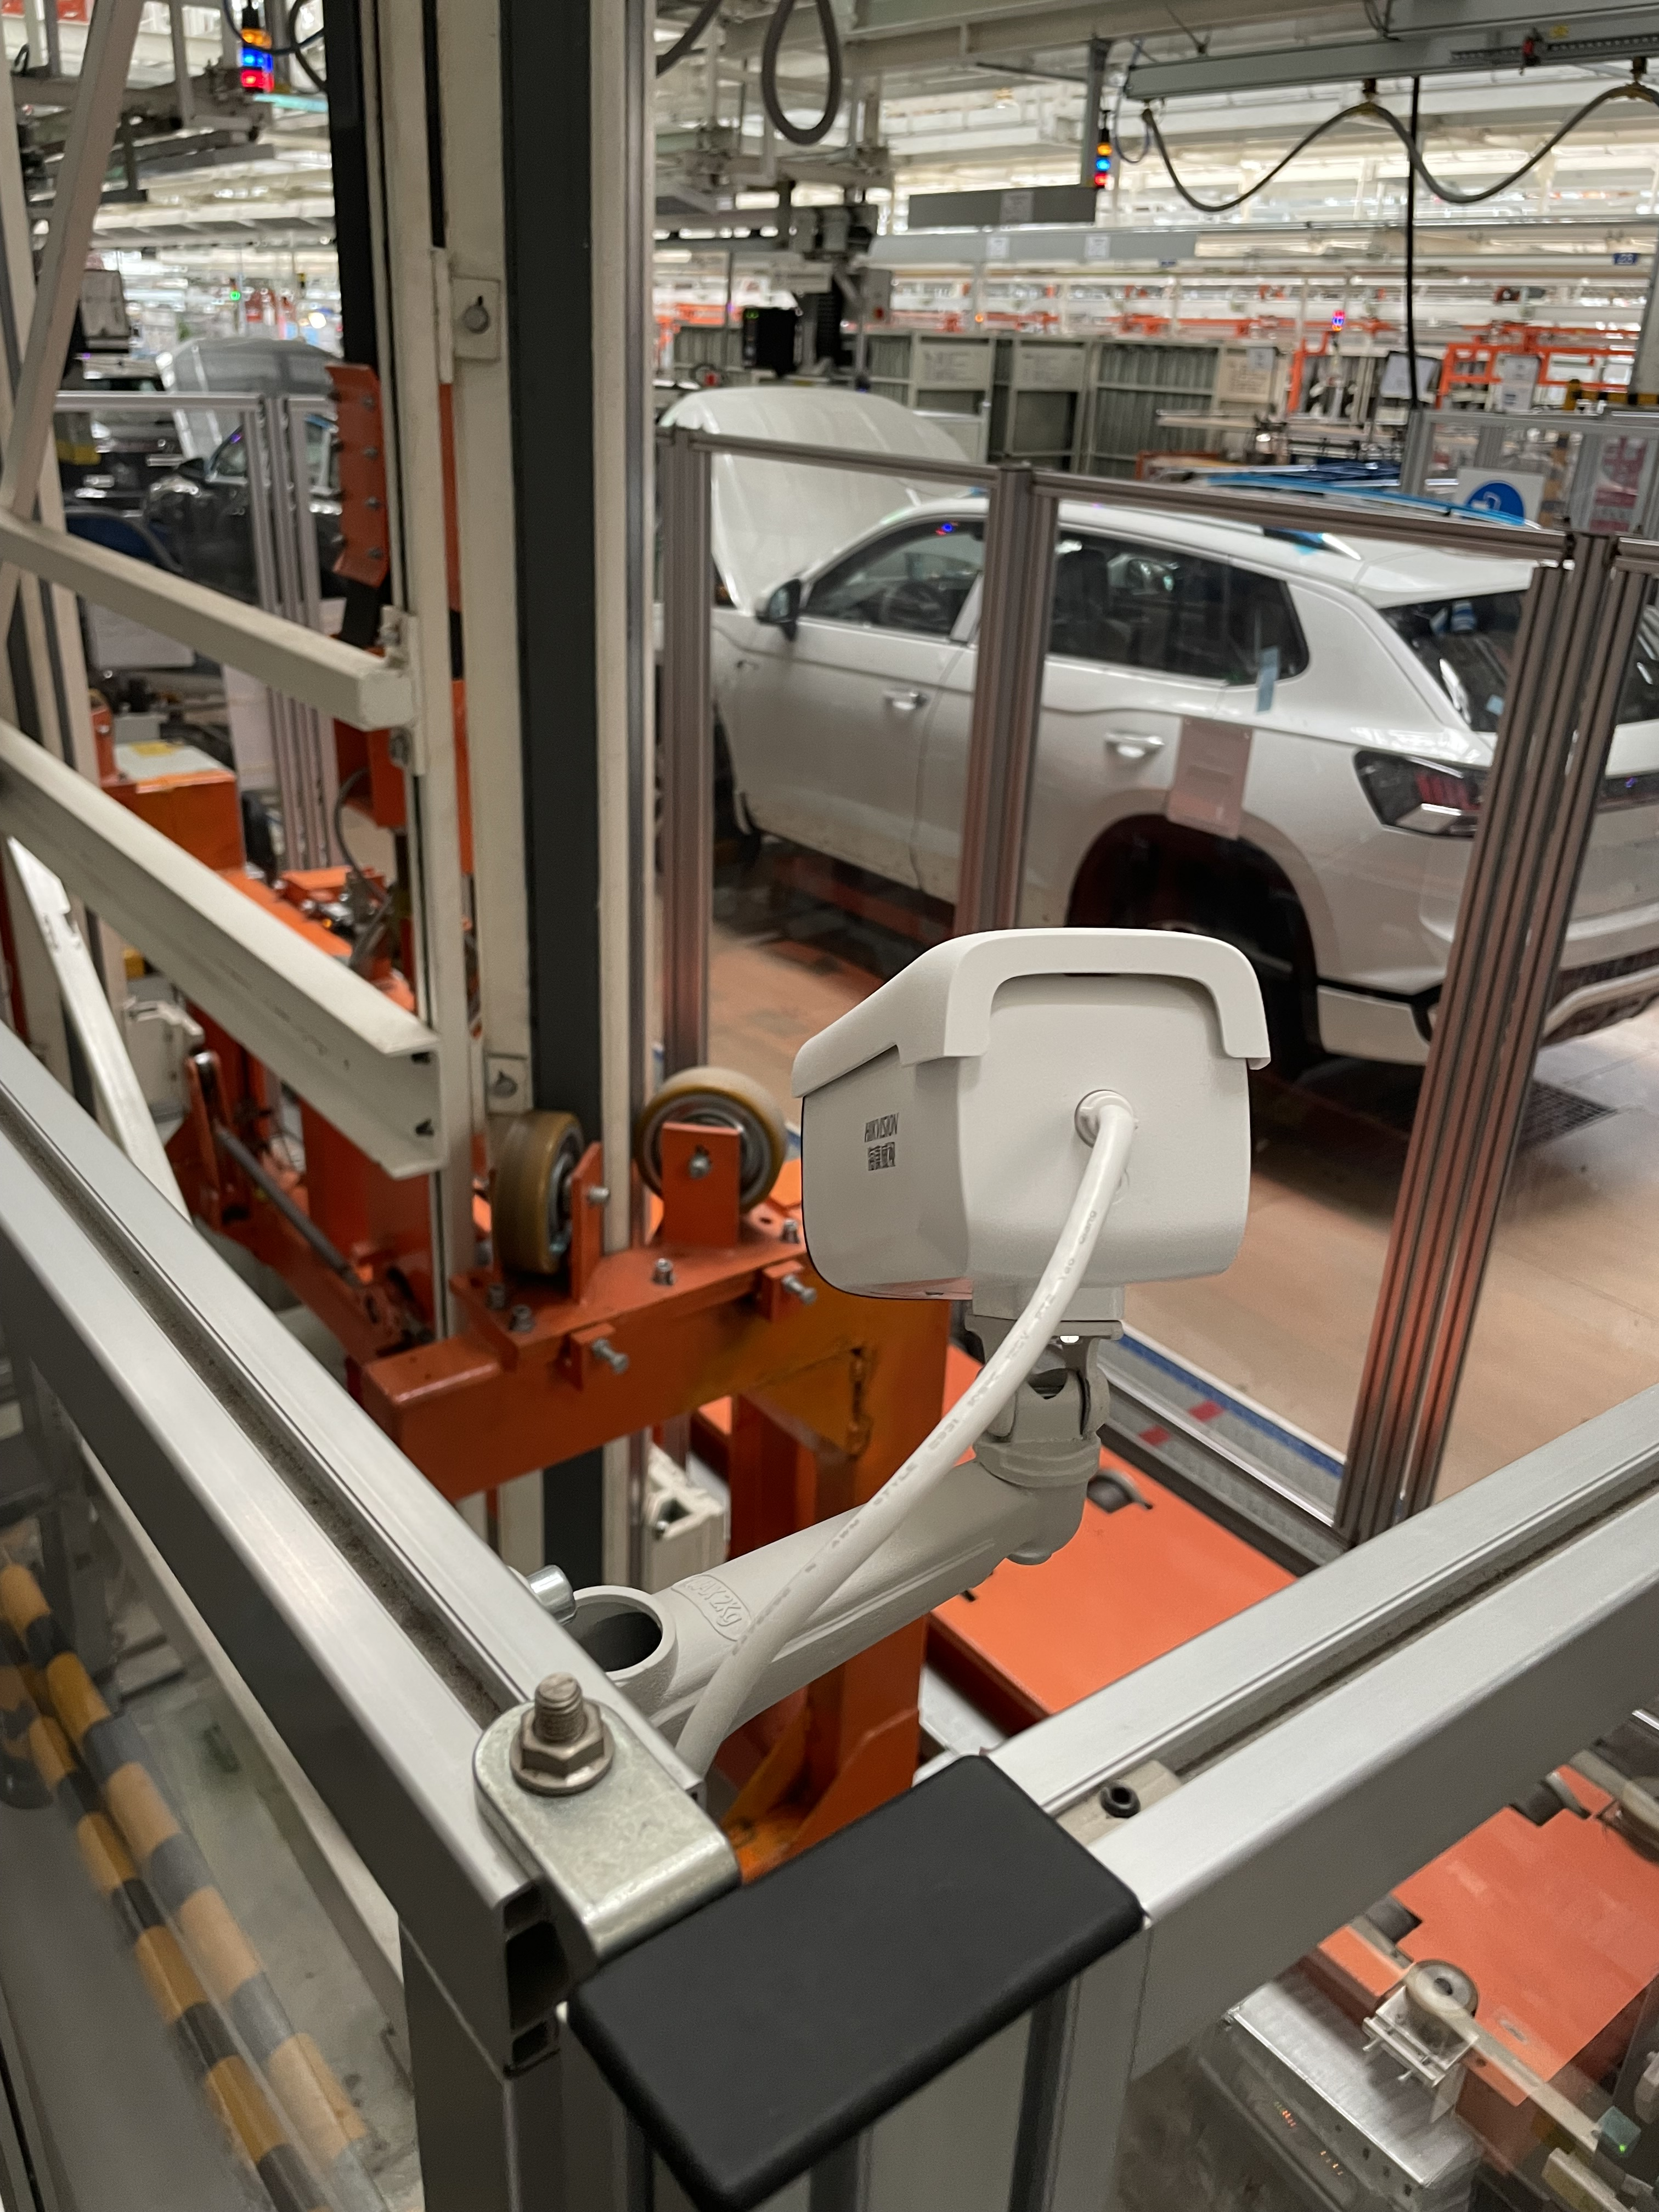good_wheel: (633, 1062, 812, 1228), (488, 1083, 612, 1303)
